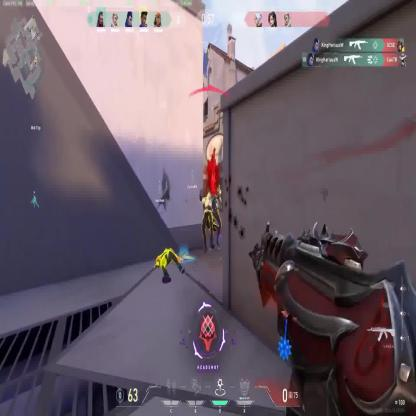enemy: (208, 177, 223, 249)
enemy_head: (214, 180, 220, 191)
